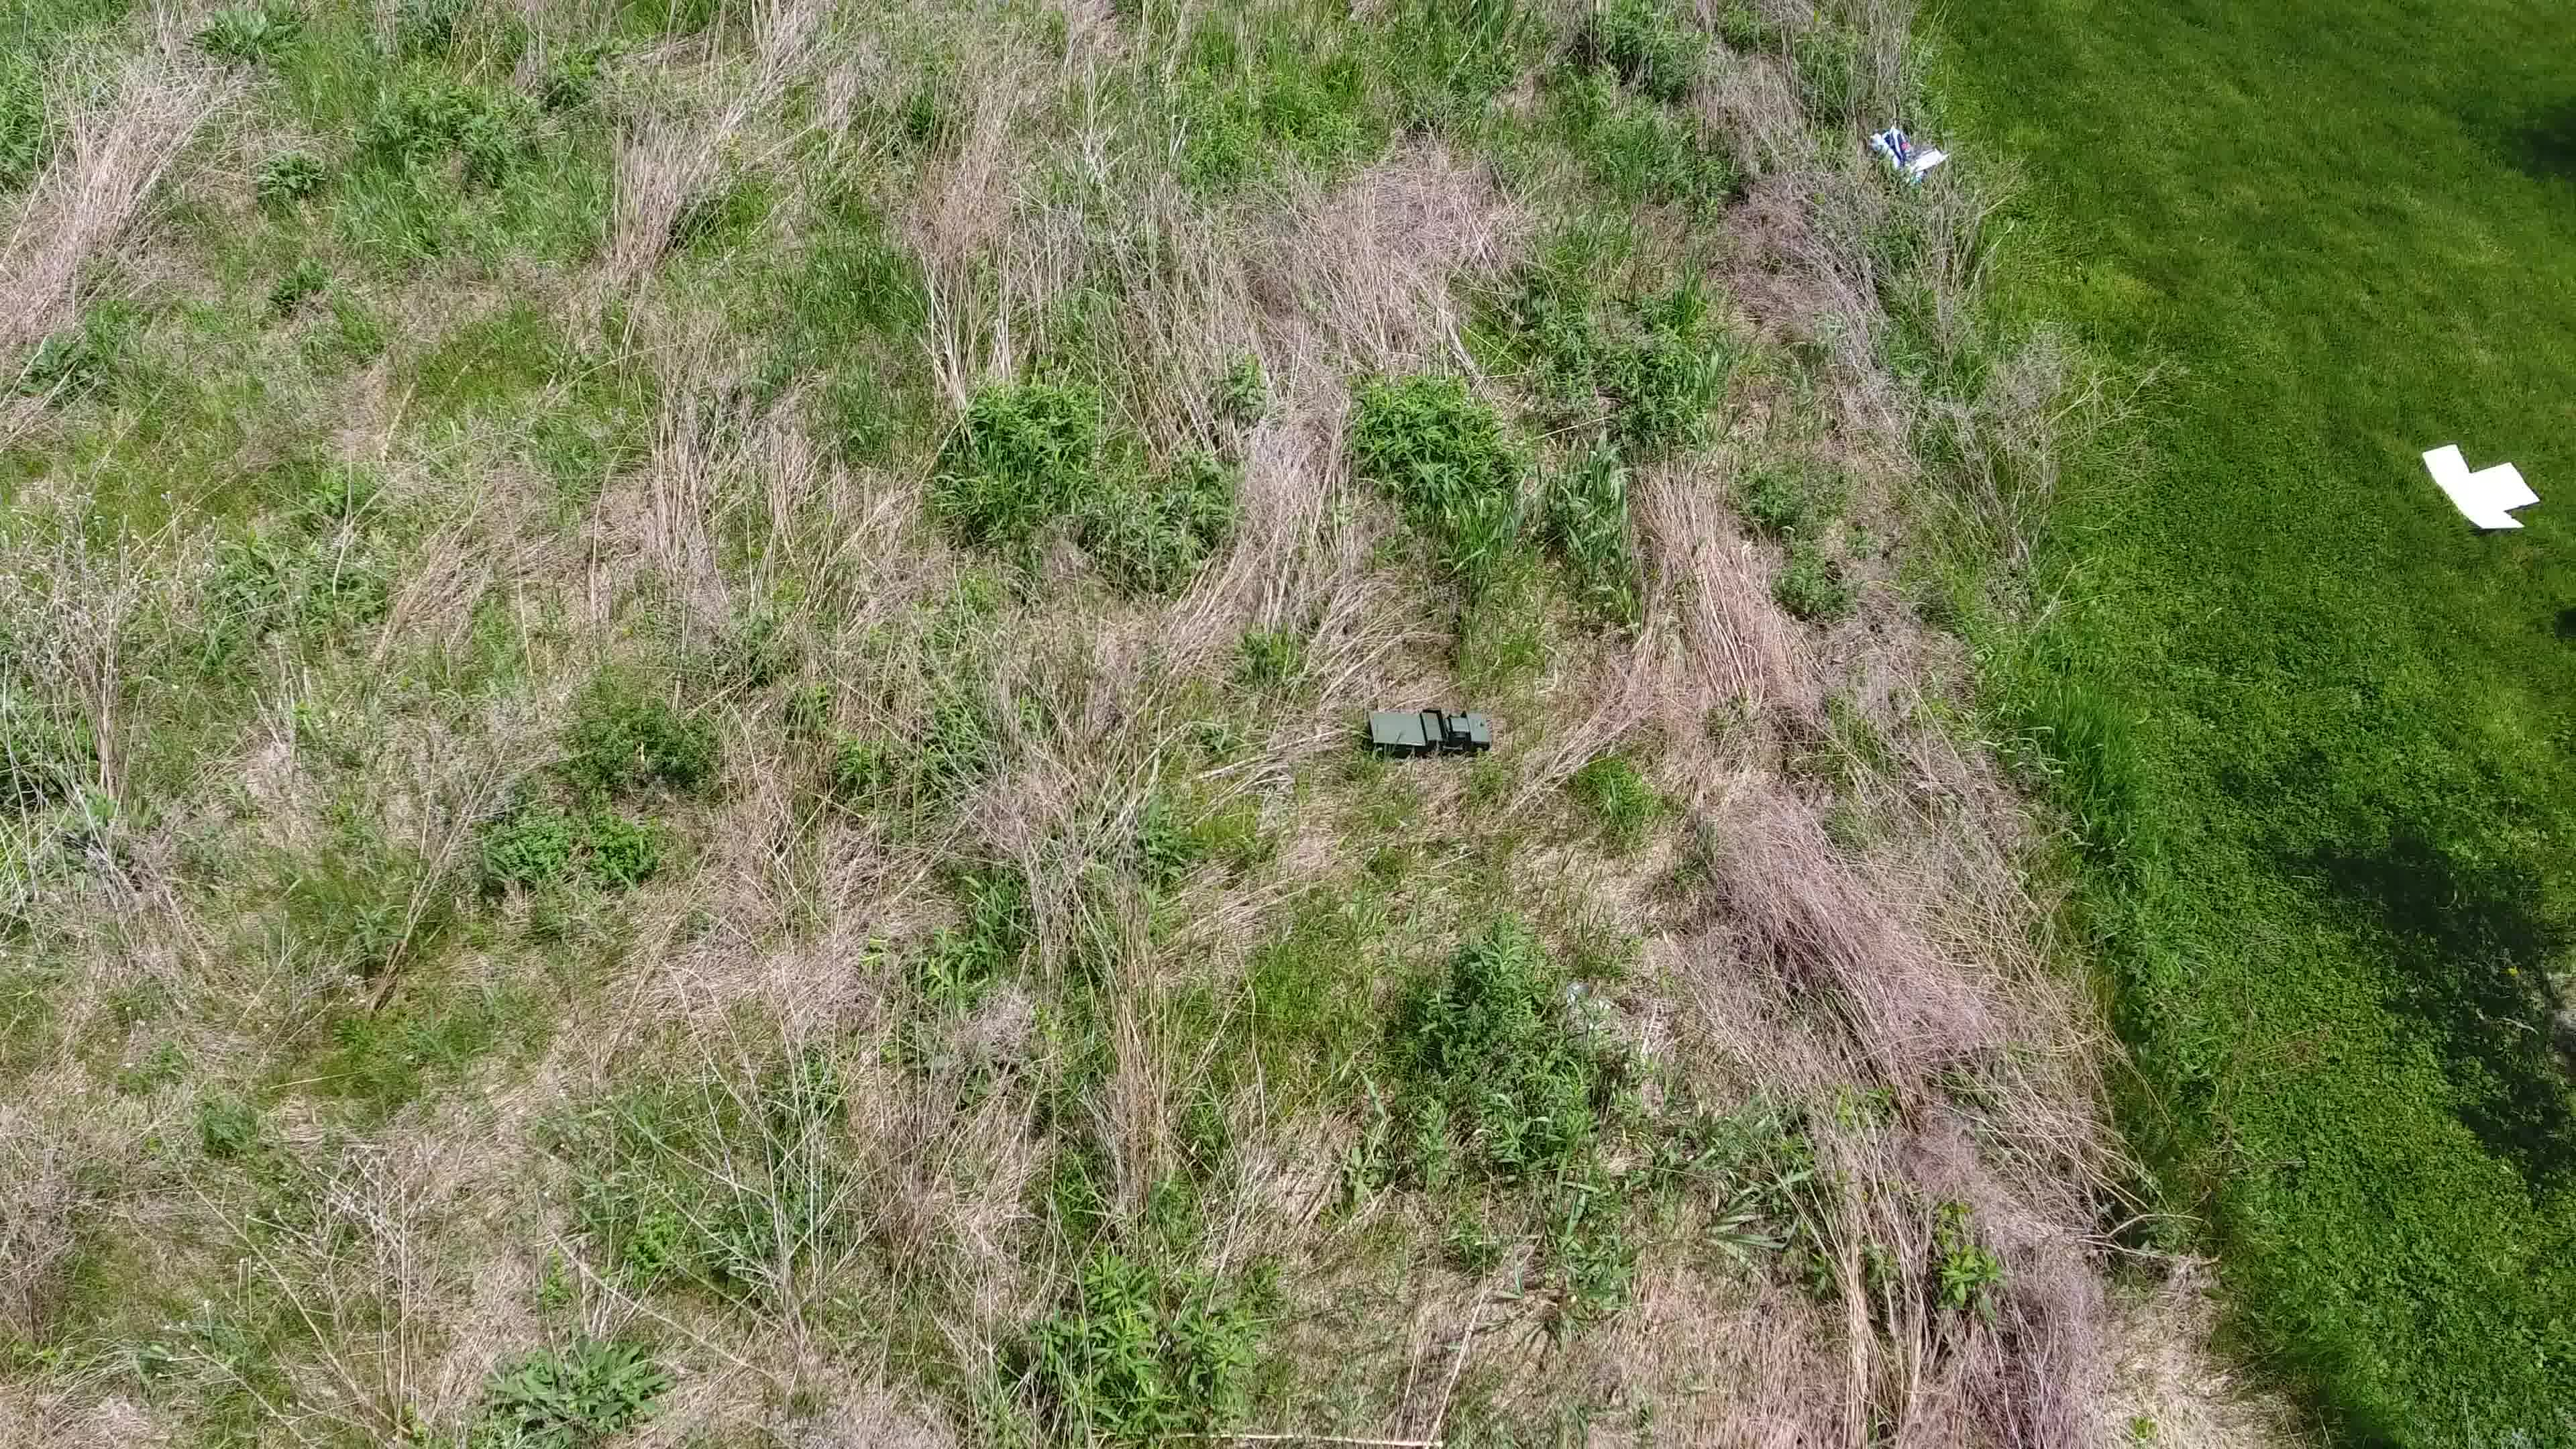transporter9: (1362, 706, 1499, 754)
